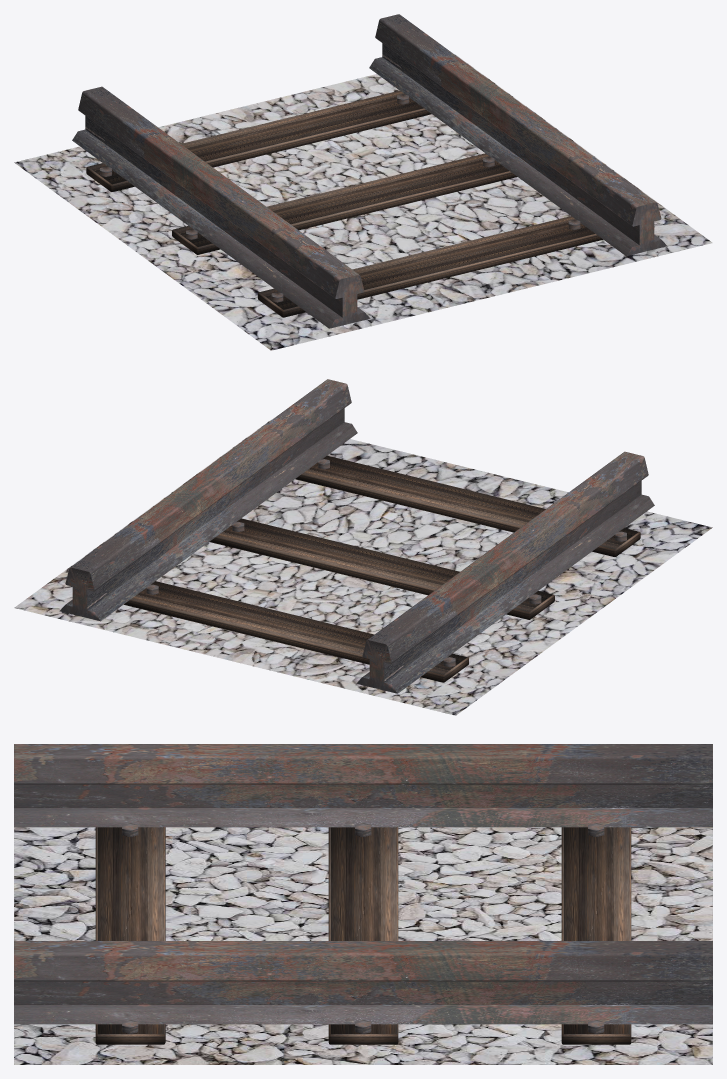
The model's file is rail1.obj.
3 renders of one model, top to bottom at view 1: azimuth 30°, elevation 25°; view 2: azimuth 150°, elevation 25°; view 3: azimuth 270°, elevation 25°, orthographic. The views are drawn at different scales.
Visible parts, largest first — view 1: rayH.002, taslarH.002; view 2: rayH.002, taslarH.002; view 3: rayH.002, taslarH.002.
Boxes of the visible parts, box(x1,y1,x2,y2) form: rayH.002: box(72, 14, 667, 328); taslarH.002: box(14, 54, 712, 350); rayH.002: box(59, 379, 654, 693); taslarH.002: box(14, 419, 712, 715); rayH.002: box(14, 744, 712, 1044); taslarH.002: box(14, 827, 712, 1064).
Size of the model in its own units: 298 by 35.02 by 300.
